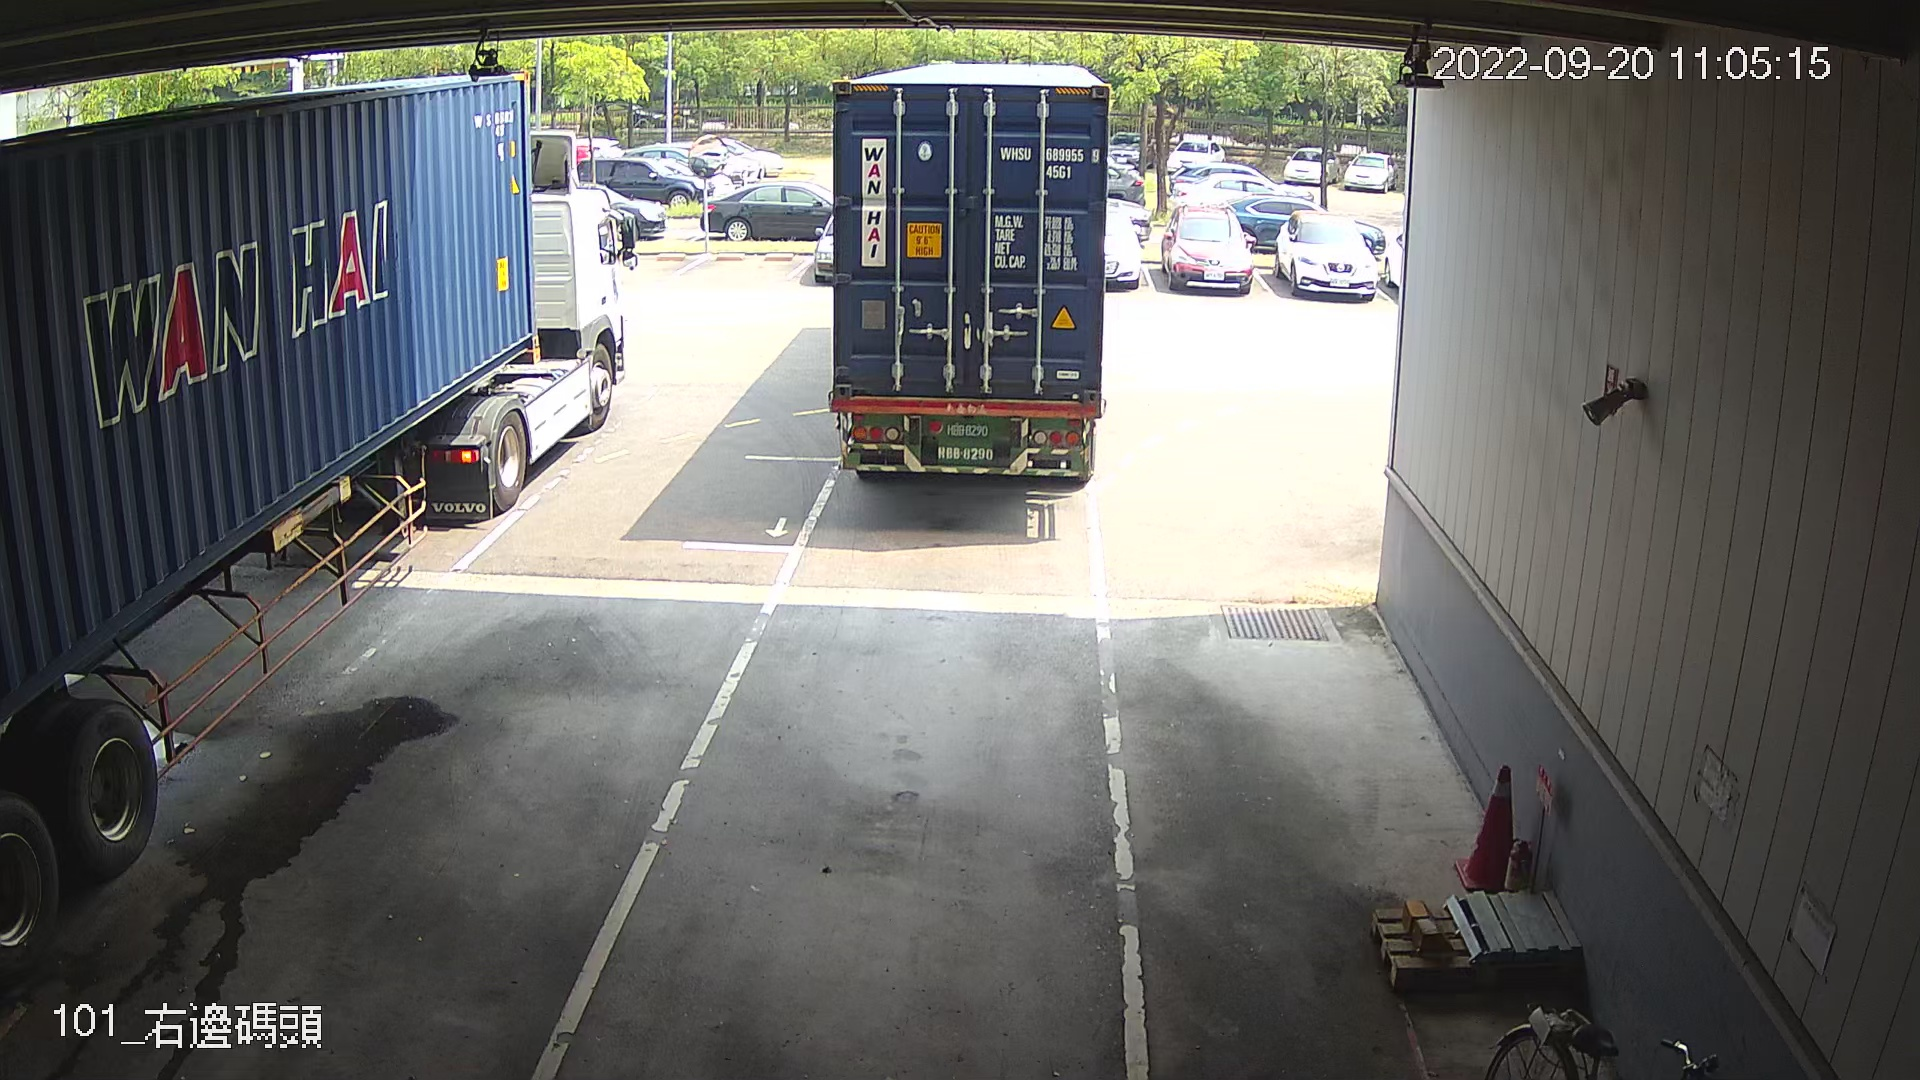container: (994, 137, 1101, 187)
